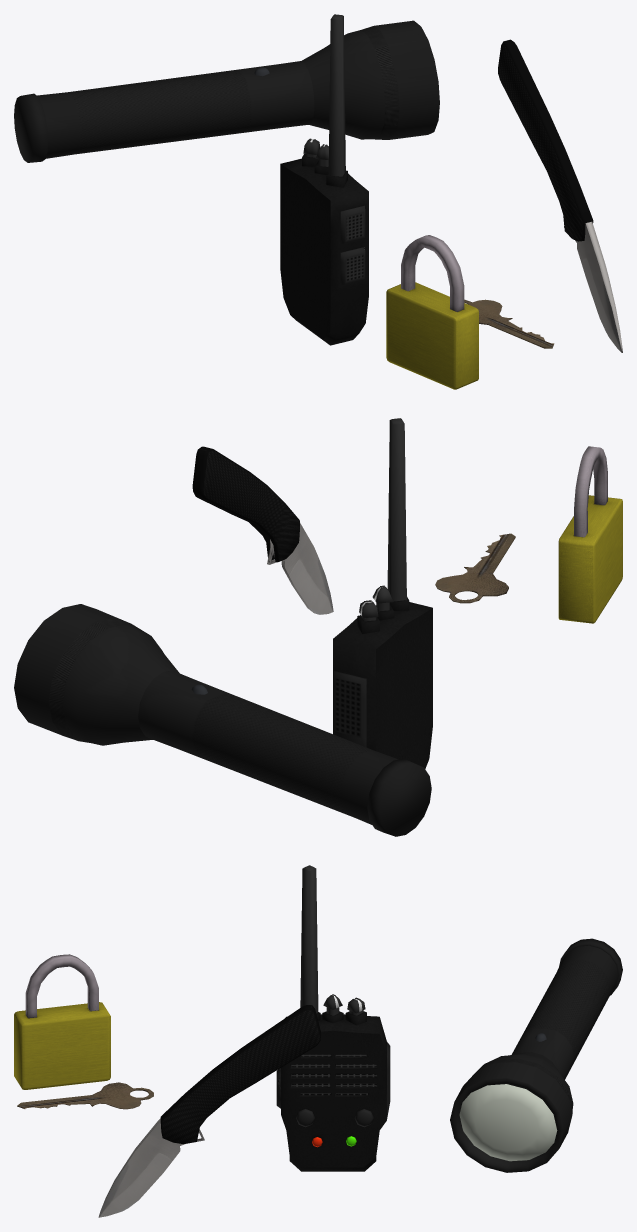
File: HorrorKit_MultiTexture-2.0.glb
3 renders of one model, top to bottom at view 1: azimuth 30°, elevation 25°; view 2: azimuth 150°, elevation 25°; view 3: azimuth 270°, elevation 25°, orthographic. The views are drawn at different scales.
Visible parts, largest first — view 1: Flashlight-V2.0, Radio-V2.0.001, Lock_Body-V2.0, Knife_Handle-V2.0, Radio-V2.0_Antenna.001, Knife_Blade-V2.0, Lock_Bar-V2.0, Key-V2.0; view 2: Flashlight-V2.0, Radio-V2.0.001, Lock_Body-V2.0, Knife_Handle-V2.0, Radio-V2.0_Antenna.001, Knife_Blade-V2.0, Key-V2.0, Lock_Bar-V2.0; view 3: Flashlight-V2.0, Radio-V2.0.001, Lock_Body-V2.0, Knife_Handle-V2.0, Knife_Blade-V2.0, Radio-V2.0_Antenna.001, Lock_Bar-V2.0, Key-V2.0, Radio-V2.0_Speaker.001.
Part boxes in pixels (left/top/right/bottom): Flashlight-V2.0: left=14, top=20, right=439, bottom=162; Radio-V2.0.001: left=280, top=153, right=368, bottom=345; Lock_Body-V2.0: left=386, top=282, right=478, bottom=389; Knife_Handle-V2.0: left=498, top=39, right=593, bottom=241; Radio-V2.0_Antenna.001: left=328, top=14, right=345, bottom=176; Knife_Blade-V2.0: left=564, top=221, right=622, bottom=352; Lock_Bar-V2.0: left=401, top=235, right=464, bottom=311; Key-V2.0: left=464, top=299, right=554, bottom=348; Flashlight-V2.0: left=14, top=604, right=431, bottom=836; Radio-V2.0.001: left=333, top=597, right=432, bottom=768; Lock_Body-V2.0: left=558, top=495, right=622, bottom=623; Knife_Handle-V2.0: left=192, top=446, right=299, bottom=562; Radio-V2.0_Antenna.001: left=387, top=418, right=406, bottom=601; Knife_Blade-V2.0: left=267, top=523, right=333, bottom=614; Key-V2.0: left=435, top=533, right=515, bottom=603; Lock_Bar-V2.0: left=574, top=446, right=607, bottom=537; Flashlight-V2.0: left=450, top=938, right=622, bottom=1172; Radio-V2.0.001: left=276, top=1011, right=390, bottom=1171; Lock_Body-V2.0: left=14, top=1002, right=110, bottom=1089; Knife_Handle-V2.0: left=160, top=1005, right=320, bottom=1143; Knife_Blade-V2.0: left=98, top=1118, right=204, bottom=1217; Radio-V2.0_Antenna.001: left=300, top=865, right=318, bottom=1013; Lock_Bar-V2.0: left=25, top=954, right=98, bottom=1018; Key-V2.0: left=17, top=1082, right=153, bottom=1109; Radio-V2.0_Speaker.001: left=291, top=1054, right=377, bottom=1095.
Size of the model in its own units: 5.72 by 4.78 by 8.82.
1 material, 1 textured.
